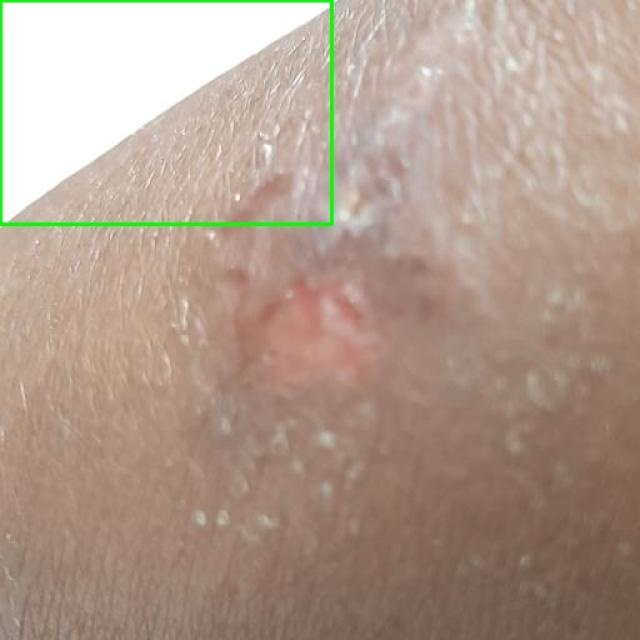Eczema: (0, 0, 331, 224)
